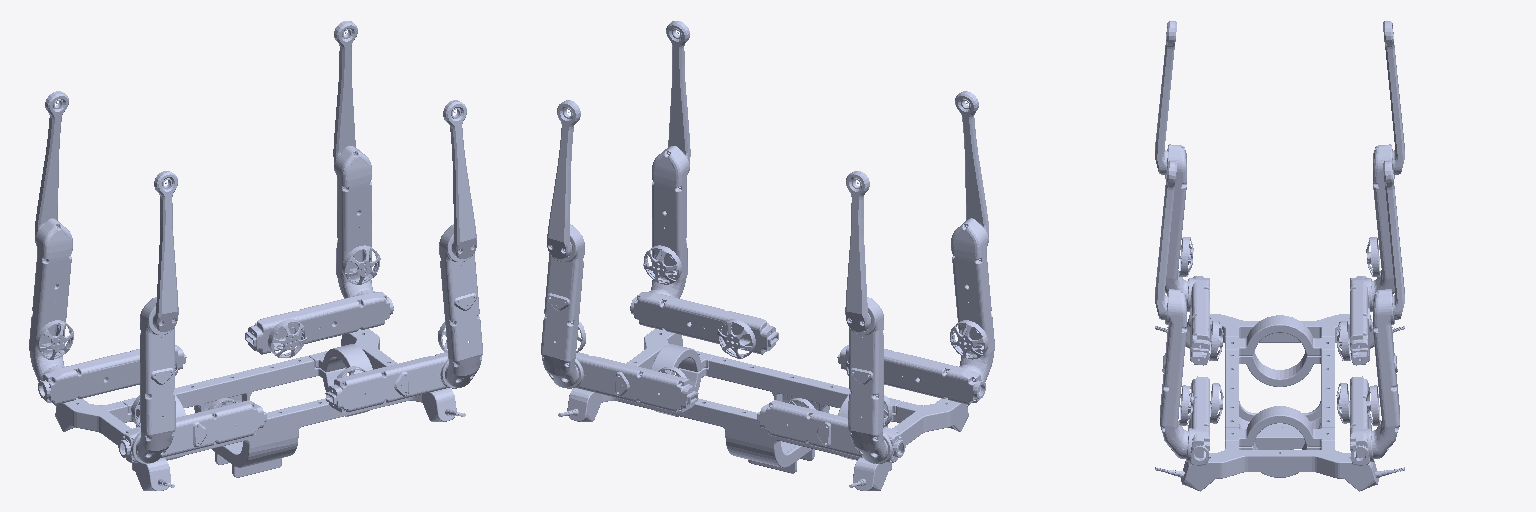
--- What the picture shows (computed from the rendered views, not written in the file) ---
Views: 3 orthographic renders of the robot side by side, from view 1: azimuth 30°, elevation 25°; view 2: azimuth 150°, elevation 25°; view 3: azimuth 270°, elevation 25°.
Robot: URDF_motion_simulator_simplified_dummy — 17 links, 16 joints (16 continuous); root link base_link; default pose: all joints at 0.
Visible links, largest first — view 1: base_link, upper_leg_left_back, hip_left_front, upper_leg_left_front, upper_leg_right_back, upper_leg_right_front, hip_right_front, hip_right_back, hip_left_back, lower_leg_right_back, lower_leg_right_front, lower_leg_left_back (+1 smaller); view 2: base_link, upper_leg_right_back, hip_right_front, upper_leg_right_front, upper_leg_left_back, upper_leg_left_front, hip_left_front, hip_left_back, hip_right_back, lower_leg_left_back, lower_leg_left_front, lower_leg_right_back (+1 smaller); view 3: base_link, upper_leg_right_front, upper_leg_left_front, upper_leg_right_back, upper_leg_left_back, hip_left_back, hip_right_back, hip_left_front, hip_right_front, lower_leg_right_front, lower_leg_left_front, lower_leg_left_back (+1 smaller).
Link boxes in pixels (bbox=[...]): base_link: bbox=[55, 329, 465, 490]; upper_leg_left_back: bbox=[29, 218, 73, 381]; hip_left_front: bbox=[245, 290, 393, 357]; upper_leg_left_front: bbox=[334, 146, 380, 298]; upper_leg_right_back: bbox=[131, 297, 175, 463]; upper_leg_right_front: bbox=[438, 224, 482, 387]; hip_right_front: bbox=[325, 352, 456, 412]; hip_right_back: bbox=[118, 398, 266, 463]; hip_left_back: bbox=[38, 345, 186, 404]; lower_leg_right_back: bbox=[153, 171, 178, 331]; lower_leg_right_front: bbox=[443, 100, 476, 258]; lower_leg_left_back: bbox=[35, 91, 68, 236]; base_link: bbox=[558, 329, 968, 490]; upper_leg_right_back: bbox=[950, 218, 994, 381]; hip_right_front: bbox=[630, 290, 778, 358]; upper_leg_right_front: bbox=[643, 146, 689, 298]; upper_leg_left_back: bbox=[848, 297, 892, 463]; upper_leg_left_front: bbox=[541, 224, 585, 387]; hip_left_front: bbox=[567, 352, 698, 412]; hip_left_back: bbox=[757, 398, 905, 463]; hip_right_back: bbox=[837, 345, 985, 404]; lower_leg_left_back: bbox=[845, 171, 870, 331]; lower_leg_left_front: bbox=[547, 100, 580, 258]; lower_leg_right_back: bbox=[955, 91, 988, 236]; base_link: bbox=[1155, 314, 1404, 491]; upper_leg_right_front: bbox=[1160, 289, 1193, 458]; upper_leg_left_front: bbox=[1366, 289, 1399, 458]; upper_leg_right_back: bbox=[1165, 144, 1193, 298]; upper_leg_left_back: bbox=[1366, 144, 1394, 298]; hip_left_back: bbox=[1336, 276, 1372, 365]; hip_right_back: bbox=[1187, 276, 1223, 365]; hip_left_front: bbox=[1336, 376, 1373, 465]; hip_right_front: bbox=[1186, 376, 1223, 465]; lower_leg_right_front: bbox=[1155, 161, 1176, 319]; lower_leg_left_front: bbox=[1383, 161, 1404, 319]; lower_leg_left_back: bbox=[1383, 21, 1404, 174].
Bounding box of the posed robot: 0.4362 × 0.2745 × 0.4385 m (x, y, z).
Meshes: 17 distinct files referenced, 17 mesh visuals loaded (17 binary STL).

The robot description file, URDF, robot "URDF_motion_simulator_simplified_dummy":
<?xml version="1.0" encoding="utf-8"?>
<!-- This URDF was automatically created by SolidWorks to URDF Exporter! Originally created by Stephen Brawner ([email redacted]) 
     Commit Version: 1.6.0-4-g7f85cfe  Build Version: 1.6.7995.38578
     For more information, please see http://wiki.ros.org/sw_urdf_exporter -->
<robot
  name="URDF_motion_simulator_simplified_dummy">
  <link
    name="base_link">
    <inertial>
      <origin
        xyz="-0.00378758182204412 0.032755494750085 3.55184467035811E-07"
        rpy="0 0 0" />
      <mass
        value="0.369358553365675" />
      <inertia
        ixx="0.000467603335978343"
        ixy="4.27759948921302E-09"
        ixz="3.57513830507563E-06"
        iyy="0.000554319680998378"
        iyz="-4.01201938304661E-10"
        izz="0.000217419375667918" />
    </inertial>
    <visual>
      <origin
        xyz="0 0 0"
        rpy="0 0 0" />
      <geometry>
        <mesh
          filename="package://URDF_motion_simulator_simplified_dummy/meshes/base_link.STL" />
      </geometry>
      <material
        name="">
        <color
          rgba="0.792156862745098 0.819607843137255 0.933333333333333 1" />
      </material>
    </visual>
    <collision>
      <origin
        xyz="0 0 0"
        rpy="0 0 0" />
      <geometry>
        <mesh
          filename="package://URDF_motion_simulator_simplified_dummy/meshes/base_link.STL" />
      </geometry>
    </collision>
  </link>
  <link
    name="hip_left_front">
    <inertial>
      <origin
        xyz="-0.00114777917617824 -3.9453711776459E-05 -0.0951126253066146"
        rpy="0 0 0" />
      <mass
        value="0.0464560424052731" />
      <inertia
        ixx="0.000109079106341082"
        ixy="-1.21193103109536E-08"
        ixz="-1.94366355261235E-07"
        iyy="0.000104429264383534"
        iyz="1.1720057725933E-07"
        izz="8.99165524220221E-06" />
    </inertial>
    <visual>
      <origin
        xyz="0 0 0"
        rpy="0 0 0" />
      <geometry>
        <mesh
          filename="package://URDF_motion_simulator_simplified_dummy/meshes/hip_left_front.STL" />
      </geometry>
      <material
        name="">
        <color
          rgba="0.792156862745098 0.819607843137255 0.933333333333333 1" />
      </material>
    </visual>
    <collision>
      <origin
        xyz="0 0 0"
        rpy="0 0 0" />
      <geometry>
        <mesh
          filename="package://URDF_motion_simulator_simplified_dummy/meshes/hip_left_front.STL" />
      </geometry>
    </collision>
  </link>
  <joint
    name="hip_left_front"
    type="continuous">
    <origin
      xyz="0.0266 0.0875 0.031"
      rpy="-1.5707963267949 -0.0888684160670934 1.5707963267949" />
    <parent
      link="base_link" />
    <child
      link="hip_left_front" />
    <axis
      xyz="0 0 1" />
    <limit
      lower="0"
      upper="0"
      effort="0"
      velocity="0" />
  </joint>
  <link
    name="upper_leg_left_front">
    <inertial>
      <origin
        xyz="0.0335844560922996 -4.50009883709579E-05 -0.0812375723976322"
        rpy="0 0 0" />
      <mass
        value="0.0443837568086894" />
      <inertia
        ixx="0.000141574062869451"
        ixy="-9.67490301551373E-09"
        ixz="9.62173645257009E-06"
        iyy="0.000138417609775401"
        iyz="9.76961205925092E-08"
        izz="1.04627706509352E-05" />
    </inertial>
    <visual>
      <origin
        xyz="0 0 0"
        rpy="0 0 0" />
      <geometry>
        <mesh
          filename="package://URDF_motion_simulator_simplified_dummy/meshes/upper_leg_left_front.STL" />
      </geometry>
      <material
        name="">
        <color
          rgba="0.792156862745098 0.819607843137255 0.933333333333333 1" />
      </material>
    </visual>
    <collision>
      <origin
        xyz="0 0 0"
        rpy="0 0 0" />
      <geometry>
        <mesh
          filename="package://URDF_motion_simulator_simplified_dummy/meshes/upper_leg_left_front.STL" />
      </geometry>
    </collision>
  </link>
  <joint
    name="upper_leg_left_front"
    type="continuous">
    <origin
      xyz="0 0 -0.168"
      rpy="-1.61214157811801 0 0" />
    <parent
      link="hip_left_front" />
    <child
      link="upper_leg_left_front" />
    <axis
      xyz="-1 0 0" />
    <limit
      lower="0"
      upper="0"
      effort="0"
      velocity="0" />
  </joint>
  <link
    name="lower_leg_left_front">
    <inertial>
      <origin
        xyz="-0.0140069086189654 -3.22959387843991E-08 -0.0683745671961548"
        rpy="0 0 0" />
      <mass
        value="0.0320230637234883" />
      <inertia
        ixx="9.38723848005656E-05"
        ixy="1.07052769881658E-12"
        ixz="-1.80942568462192E-06"
        iyy="9.31714115946445E-05"
        iyz="5.82157528463886E-11"
        izz="1.49172266483065E-06" />
    </inertial>
    <visual>
      <origin
        xyz="0 0 0"
        rpy="0 0 0" />
      <geometry>
        <mesh
          filename="package://URDF_motion_simulator_simplified_dummy/meshes/lower_leg_left_front.STL" />
      </geometry>
      <material
        name="">
        <color
          rgba="0.792156862745098 0.819607843137255 0.933333333333333 1" />
      </material>
    </visual>
    <collision>
      <origin
        xyz="0 0 0"
        rpy="0 0 0" />
      <geometry>
        <mesh
          filename="package://URDF_motion_simulator_simplified_dummy/meshes/lower_leg_left_front.STL" />
      </geometry>
    </collision>
  </link>
  <joint
    name="lower_leg_left_front"
    type="continuous">
    <origin
      xyz="0.0451575365316773 0 -0.16"
      rpy="-0.0017453292519866 0 3.14159265358979" />
    <parent
      link="upper_leg_left_front" />
    <child
      link="lower_leg_left_front" />
    <axis
      xyz="1 0 0" />
    <limit
      lower="0"
      upper="0"
      effort="0"
      velocity="0" />
  </joint>
  <link
    name="dummy_left_front">
    <inertial>
      <origin
        xyz="1.94289029309402E-16 4.9960036108132E-16 -0.000594786724318619"
        rpy="0 0 0" />
      <mass
        value="4.18879020478639E-06" />
      <inertia
        ixx="1.67551608191456E-12"
        ixy="0"
        ixz="0"
        iyy="1.67551608191456E-12"
        iyz="0"
        izz="1.67551608191456E-12" />
    </inertial>
    <visual>
      <origin
        xyz="0 0 0"
        rpy="0 0 0" />
      <geometry>
        <mesh
          filename="package://URDF_motion_simulator_simplified_dummy/meshes/dummy_left_front.STL" />
      </geometry>
      <material
        name="">
        <color
          rgba="0.792156862745098 0.819607843137255 0.933333333333333 1" />
      </material>
    </visual>
    <collision>
      <origin
        xyz="0 0 0"
        rpy="0 0 0" />
      <geometry>
        <mesh
          filename="package://URDF_motion_simulator_simplified_dummy/meshes/dummy_left_front.STL" />
      </geometry>
    </collision>
  </link>
  <joint
    name="dummy_left_front"
    type="continuous">
    <origin
      xyz="-0.0142500238911007 0 -0.160052746822092"
      rpy="-1.659664742862 -0.0395999220711239 -1.5707963267949" />
    <parent
      link="lower_leg_left_front" />
    <child
      link="dummy_left_front" />
    <axis
      xyz="0 0 1" />
  </joint>
  <link
    name="hip_right_front">
    <inertial>
      <origin
        xyz="-0.00128328837930811 -4.41156613188269E-05 -0.0894544410841239"
        rpy="0 0 0" />
      <mass
        value="0.0415506938007008" />
      <inertia
        ixx="0.000108718038535273"
        ixy="-1.21209885638298E-08"
        ixz="-1.9436680846915E-07"
        iyy="0.000104149900905259"
        iyz="1.17168576432383E-07"
        izz="8.56930927599927E-06" />
    </inertial>
    <visual>
      <origin
        xyz="0 0 0"
        rpy="0 0 0" />
      <geometry>
        <mesh
          filename="package://URDF_motion_simulator_simplified_dummy/meshes/hip_right_front.STL" />
      </geometry>
      <material
        name="">
        <color
          rgba="0.792156862745098 0.819607843137255 0.933333333333333 1" />
      </material>
    </visual>
    <collision>
      <origin
        xyz="0 0 0"
        rpy="0 0 0" />
      <geometry>
        <mesh
          filename="package://URDF_motion_simulator_simplified_dummy/meshes/hip_right_front.STL" />
      </geometry>
    </collision>
  </link>
  <joint
    name="hip_right_front"
    type="continuous">
    <origin
      xyz="0.0421999999999998 -0.0875 0.0310000000000001"
      rpy="1.5707963267949 -0.0888684160671074 -1.5707963267949" />
    <parent
      link="base_link" />
    <child
      link="hip_right_front" />
    <axis
      xyz="0 0 1" />
    <limit
      lower="0"
      upper="0"
      effort="0"
      velocity="0" />
  </joint>
  <link
    name="upper_leg_right_front">
    <inertial>
      <origin
        xyz="0.0335842661332895 -4.47898904026856E-05 -0.0812357114830771"
        rpy="0 0 0" />
      <mass
        value="0.0443850830836431" />
      <inertia
        ixx="0.000141579496511874"
        ixy="-9.57177707552774E-09"
        ixz="9.62238517618777E-06"
        iyy="0.000138413773254541"
        iyz="9.74605788608334E-08"
        izz="1.04533350003678E-05" />
    </inertial>
    <visual>
      <origin
        xyz="0 0 0"
        rpy="0 0 0" />
      <geometry>
        <mesh
          filename="package://URDF_motion_simulator_simplified_dummy/meshes/upper_leg_right_front.STL" />
      </geometry>
      <material
        name="">
        <color
          rgba="0.792156862745098 0.819607843137255 0.933333333333333 1" />
      </material>
    </visual>
    <collision>
      <origin
        xyz="0 0 0"
        rpy="0 0 0" />
      <geometry>
        <mesh
          filename="package://URDF_motion_simulator_simplified_dummy/meshes/upper_leg_right_front.STL" />
      </geometry>
    </collision>
  </link>
  <joint
    name="upper_leg_right_front"
    type="continuous">
    <origin
      xyz="0 0 -0.1524"
      rpy="1.61214157811801 0 0" />
    <parent
      link="hip_right_front" />
    <child
      link="upper_leg_right_front" />
    <axis
      xyz="-1 0 0" />
    <limit
      lower="0"
      upper="0"
      effort="0"
      velocity="0" />
  </joint>
  <link
    name="lower_leg_right_front">
    <inertial>
      <origin
        xyz="-0.0307978176908624 -2.77351331068321E-08 -0.0683745706192754"
        rpy="0 0 0" />
      <mass
        value="0.0320230612142886" />
      <inertia
        ixx="9.38723784822054E-05"
        ixy="1.25390320575601E-12"
        ixz="-1.80942619373483E-06"
        iyy="9.31714063906275E-05"
        iyz="5.55800084008384E-11"
        izz="1.4917205231192E-06" />
    </inertial>
    <visual>
      <origin
        xyz="0 0 0"
        rpy="0 0 0" />
      <geometry>
        <mesh
          filename="package://URDF_motion_simulator_simplified_dummy/meshes/lower_leg_right_front.STL" />
      </geometry>
      <material
        name="">
        <color
          rgba="0.792156862745098 0.819607843137255 0.933333333333333 1" />
      </material>
    </visual>
    <collision>
      <origin
        xyz="0 0 0"
        rpy="0 0 0" />
      <geometry>
        <mesh
          filename="package://URDF_motion_simulator_simplified_dummy/meshes/lower_leg_right_front.STL" />
      </geometry>
    </collision>
  </link>
  <joint
    name="lower_leg_right_front"
    type="continuous">
    <origin
      xyz="0.0283666271345778 0 -0.16"
      rpy="0.00174532925198727 0 -3.14159265358979" />
    <parent
      link="upper_leg_right_front" />
    <child
      link="lower_leg_right_front" />
    <axis
      xyz="1 0 0" />
    <limit
      lower="0"
      upper="0"
      effort="0"
      velocity="0" />
  </joint>
  <link
    name="dummy_right_front">
    <inertial>
      <origin
        xyz="8.53371171750383E-05 0.000161763066584331 0.00118091884280049"
        rpy="0 0 0" />
      <mass
        value="4.18879020478639E-06" />
      <inertia
        ixx="1.67551608191456E-12"
        ixy="4.10207670714926E-29"
        ixz="0"
        iyy="1.67551608191456E-12"
        iyz="2.52435489670724E-29"
        izz="1.67551608191456E-12" />
    </inertial>
    <visual>
      <origin
        xyz="0 0 0"
        rpy="0 0 0" />
      <geometry>
        <mesh
          filename="package://URDF_motion_simulator_simplified_dummy/meshes/dummy_right_front.STL" />
      </geometry>
      <material
        name="">
        <color
          rgba="0.792156862745098 0.819607843137255 0.933333333333333 1" />
      </material>
    </visual>
    <collision>
      <origin
        xyz="0 0 0"
        rpy="0 0 0" />
      <geometry>
        <mesh
          filename="package://URDF_motion_simulator_simplified_dummy/meshes/dummy_right_front.STL" />
      </geometry>
    </collision>
  </link>
  <joint
    name="dummy_right_front"
    type="continuous">
    <origin
      xyz="-0.0304430910633562 0 -0.16010597465947"
      rpy="-1.34906825918403 -0.0492173125903429 1.64177086104973" />
    <parent
      link="lower_leg_right_front" />
    <child
      link="dummy_right_front" />
    <axis
      xyz="0.0714119628942929 0.135366866036153 0.988218671719541" />
  </joint>
  <link
    name="hip_left_back">
    <inertial>
      <origin
        xyz="-0.00128328848757414 -4.41136000242613E-05 -0.0894544419441646"
        rpy="0 0 0" />
      <mass
        value="0.0415506942379489" />
      <inertia
        ixx="0.000108718040433142"
        ixy="-1.21217786142228E-08"
        ixz="-1.94366773896543E-07"
        iyy="0.000104152221436801"
        iyz="1.17167819342496E-07"
        izz="8.57162796959362E-06" />
    </inertial>
    <visual>
      <origin
        xyz="0 0 0"
        rpy="0 0 0" />
      <geometry>
        <mesh
          filename="package://URDF_motion_simulator_simplified_dummy/meshes/hip_left_back.STL" />
      </geometry>
      <material
        name="">
        <color
          rgba="0.792156862745098 0.819607843137255 0.933333333333333 1" />
      </material>
    </visual>
    <collision>
      <origin
        xyz="0 0 0"
        rpy="0 0 0" />
      <geometry>
        <mesh
          filename="package://URDF_motion_simulator_simplified_dummy/meshes/hip_left_back.STL" />
      </geometry>
    </collision>
  </link>
  <joint
    name="hip_left_back"
    type="continuous">
    <origin
      xyz="-0.0422000000000003 0.0874999999999999 0.031"
      rpy="1.5707963267949 -0.088868416067085 1.5707963267949" />
    <parent
      link="base_link" />
    <child
      link="hip_left_back" />
    <axis
      xyz="0 0 1" />
    <limit
      lower="0"
      upper="0"
      effort="0"
      velocity="0" />
  </joint>
  <link
    name="upper_leg_left_back">
    <inertial>
      <origin
        xyz="0.0335842810737708 -4.48592050072694E-05 -0.0812358386973087"
        rpy="0 0 0" />
      <mass
        value="0.0443850097633001" />
      <inertia
        ixx="0.000141579517248848"
        ixy="-9.5715177549458E-09"
        ixz="9.62238475227013E-06"
        iyy="0.000138416457279121"
        iyz="9.74583302140696E-08"
        izz="1.04559983630747E-05" />
    </inertial>
    <visual>
      <origin
        xyz="0 0 0"
        rpy="0 0 0" />
      <geometry>
        <mesh
          filename="package://URDF_motion_simulator_simplified_dummy/meshes/upper_leg_left_back.STL" />
      </geometry>
      <material
        name="">
        <color
          rgba="0.792156862745098 0.819607843137255 0.933333333333333 1" />
      </material>
    </visual>
    <collision>
      <origin
        xyz="0 0 0"
        rpy="0 0 0" />
      <geometry>
        <mesh
          filename="package://URDF_motion_simulator_simplified_dummy/meshes/upper_leg_left_back.STL" />
      </geometry>
    </collision>
  </link>
  <joint
    name="upper_leg_left_back"
    type="continuous">
    <origin
      xyz="0 0 -0.1524"
      rpy="1.61214157811801 0 0" />
    <parent
      link="hip_left_back" />
    <child
      link="upper_leg_left_back" />
    <axis
      xyz="-1 0 0" />
    <limit
      lower="0"
      upper="0"
      effort="0"
      velocity="0" />
  </joint>
  <link
    name="lower_leg_left_back">
    <inertial>
      <origin
        xyz="-0.0140069083043222 -2.77293754624708E-08 -0.0683745697448815"
        rpy="0 0 0" />
      <mass
        value="0.0320230619709976" />
      <inertia
        ixx="9.38723795639434E-05"
        ixy="1.25511935342707E-12"
        ixz="-1.80942613006925E-06"
        iyy="9.31714073784877E-05"
        iyz="5.5578152269522E-11"
        izz="1.49172056634742E-06" />
    </inertial>
    <visual>
      <origin
        xyz="0 0 0"
        rpy="0 0 0" />
      <geometry>
        <mesh
          filename="package://URDF_motion_simulator_simplified_dummy/meshes/lower_leg_left_back.STL" />
      </geometry>
      <material
        name="">
        <color
          rgba="0.792156862745098 0.819607843137255 0.933333333333333 1" />
      </material>
    </visual>
    <collision>
      <origin
        xyz="0 0 0"
        rpy="0 0 0" />
      <geometry>
        <mesh
          filename="package://URDF_motion_simulator_simplified_dummy/meshes/lower_leg_left_back.STL" />
      </geometry>
    </collision>
  </link>
  <joint
    name="lower_leg_left_back"
    type="continuous">
    <origin
      xyz="0.0451575365316778 0 -0.16"
      rpy="0.00174532925198693 0 -3.14159265358979" />
    <parent
      link="upper_leg_left_back" />
    <child
      link="lower_leg_left_back" />
    <axis
      xyz="1 0 0" />
    <limit
      lower="0"
      upper="0"
      effort="0"
      velocity="0" />
  </joint>
  <link
    name="dummy_left_back">
    <inertial>
      <origin
        xyz="-2.77555756156289E-17 1.11022302462516E-16 -0.000594786724320312"
        rpy="0 0 0" />
      <mass
        value="4.18879020478639E-06" />
      <inertia
        ixx="1.67551608191456E-12"
        ixy="0"
        ixz="0"
        iyy="1.67551608191456E-12"
        iyz="0"
        izz="1.67551608191456E-12" />
    </inertial>
    <visual>
      <origin
        xyz="0 0 0"
        rpy="0 0 0" />
      <geometry>
        <mesh
          filename="package://URDF_motion_simulator_simplified_dummy/meshes/dummy_left_back.STL" />
      </geometry>
      <material
        name="">
        <color
          rgba="0.792156862745098 0.819607843137255 0.933333333333333 1" />
      </material>
    </visual>
    <collision>
      <origin
        xyz="0 0 0"
        rpy="0 0 0" />
      <geometry>
        <mesh
          filename="package://URDF_motion_simulator_simplified_dummy/meshes/dummy_left_back.STL" />
      </geometry>
    </collision>
  </link>
  <joint
    name="dummy_left_back"
    type="continuous">
    <origin
      xyz="-0.0142500238910989 0 -0.160052746822092"
      rpy="-1.65966474286198 0.0395999220711294 -1.5707963267949" />
    <parent
      link="lower_leg_left_back" />
    <child
      link="dummy_left_back" />
    <axis
      xyz="0 0 1" />
  </joint>
  <link
    name="hip_right_back">
    <inertial>
      <origin
        xyz="-0.00114777885671997 -3.94546783551199E-05 -0.0951126260332582"
        rpy="0 0 0" />
      <mass
        value="0.0464560462885094" />
      <inertia
        ixx="0.000109079107012902"
        ixy="-1.21190518391895E-08"
        ixz="-1.94367071199817E-07"
        iyy="0.000104416981415421"
        iyz="1.17200818509972E-07"
        izz="8.9793727006512E-06" />
    </inertial>
    <visual>
      <origin
        xyz="0 0 0"
        rpy="0 0 0" />
      <geometry>
        <mesh
          filename="package://URDF_motion_simulator_simplified_dummy/meshes/hip_right_back.STL" />
      </geometry>
      <material
        name="">
        <color
          rgba="0.792156862745098 0.819607843137255 0.933333333333333 1" />
      </material>
    </visual>
    <collision>
      <origin
        xyz="0 0 0"
        rpy="0 0 0" />
      <geometry>
        <mesh
          filename="package://URDF_motion_simulator_simplified_dummy/meshes/hip_right_back.STL" />
      </geometry>
    </collision>
  </link>
  <joint
    name="hip_right_back"
    type="continuous">
    <origin
      xyz="-0.0266 -0.0875 0.031"
      rpy="-1.5707963267949 -0.0888684160668232 -1.5707963267949" />
    <parent
      link="base_link" />
    <child
      link="hip_right_back" />
    <axis
      xyz="0 0 1" />
    <limit
      lower="0"
      upper="0"
      effort="0"
      velocity="0" />
  </joint>
  <link
    name="upper_leg_right_back">
    <inertial>
      <origin
        xyz="0.033584399570773 -4.49615734106068E-05 -0.0812369288638612"
        rpy="0 0 0" />
      <mass
        value="0.0443841843830056" />
      <inertia
        ixx="0.000141574155249554"
        ixy="-9.67490050850781E-09"
        ixz="9.62173181472236E-06"
        iyy="0.000138412354185531"
        iyz="9.76815102348098E-08"
        izz="1.04574244135255E-05" />
    </inertial>
    <visual>
      <origin
        xyz="0 0 0"
        rpy="0 0 0" />
      <geometry>
        <mesh
          filename="package://URDF_motion_simulator_simplified_dummy/meshes/upper_leg_right_back.STL" />
      </geometry>
      <material
        name="">
        <color
          rgba="0.792156862745098 0.819607843137255 0.933333333333333 1" />
      </material>
    </visual>
    <collision>
      <origin
        xyz="0 0 0"
        rpy="0 0 0" />
      <geometry>
        <mesh
          filename="package://URDF_motion_simulator_simplified_dummy/meshes/upper_leg_right_back.STL" />
      </geometry>
    </collision>
  </link>
  <joint
    name="upper_leg_right_back"
    type="continuous">
    <origin
      xyz="0 0 -0.168"
      rpy="-1.61214157811801 0 0" />
    <parent
      link="hip_right_back" />
    <child
      link="upper_leg_right_back" />
    <axis
      xyz="-1 0 0" />
    <limit
      lower="0"
      upper="0"
      effort="0"
      velocity="0" />
  </joint>
  <link
    name="lower_leg_right_back">
    <inertial>
      <origin
        xyz="-0.0307978180198995 -3.21887455578818E-08 -0.06837456675346"
        rpy="0 0 0" />
      <mass
        value="0.032023064104675" />
      <inertia
        ixx="9.38723853505118E-05"
        ixy="1.07431027584969E-12"
        ixz="-1.80942565492456E-06"
        iyy="9.31714120991633E-05"
        iyz="5.80833412873038E-11"
        izz="1.49172268522215E-06" />
    </inertial>
    <visual>
      <origin
        xyz="0 0 0"
        rpy="0 0 0" />
      <geometry>
        <mesh
          filename="package://URDF_motion_simulator_simplified_dummy/meshes/lower_leg_right_back.STL" />
      </geometry>
      <material
        name="">
        <color
          rgba="0.792156862745098 0.819607843137255 0.933333333333333 1" />
      </material>
    </visual>
    <collision>
      <origin
        xyz="0 0 0"
        rpy="0 0 0" />
      <geometry>
        <mesh
          filename="package://URDF_motion_simulator_simplified_dummy/meshes/lower_leg_right_back.STL" />
      </geometry>
    </collision>
  </link>
  <joint
    name="lower_leg_right_back"
    type="continuous">
    <origin
      xyz="0.0283666271345683 0 -0.160000000000044"
      rpy="-0.00174532925198751 0 -3.14159265358979" />
    <parent
      link="upper_leg_right_back" />
    <child
      link="lower_leg_right_back" />
    <axis
      xyz="1 0 0" />
    <limit
      lower="0"
      upper="0"
      effort="0"
      velocity="0" />
  </joint>
  <link
    name="dummy_right_back">
    <inertial>
      <origin
        xyz="9.16337348415841E-05 7.63087066372181E-05 0.00113539175443665"
        rpy="0 0 0" />
      <mass
        value="4.18879020478639E-06" />
      <inertia
        ixx="1.67551608191456E-12"
        ixy="8.59858386690903E-29"
        ixz="1.26217744835362E-29"
        iyy="1.67551608191456E-12"
        iyz="0"
        izz="1.67551608191456E-12" />
    </inertial>
    <visual>
      <origin
        xyz="0 0 0"
        rpy="0 0 0" />
      <geometry>
        <mesh
          filename="package://URDF_motion_simulator_simplified_dummy/meshes/dummy_right_back.STL" />
      </geometry>
      <material
        name="">
        <color
          rgba="0.792156862745098 0.819607843137255 0.933333333333333 1" />
      </material>
    </visual>
    <collision>
      <origin
        xyz="0 0 0"
        rpy="0 0 0" />
      <geometry>
        <mesh
          filename="package://URDF_motion_simulator_simplified_dummy/meshes/dummy_right_back.STL" />
      </geometry>
    </collision>
  </link>
  <joint
    name="dummy_right_back"
    type="continuous">
    <origin
      xyz="-0.0304962413609679 0 -0.160101242515636"
      rpy="-1.41154703399905 0.0370007615455834 1.65130135925405" />
    <parent
      link="lower_leg_right_back" />
    <child
      link="dummy_right_back" />
    <axis
      xyz="0.0802652371376651 0.066841501620514 0.994529891641447" />
  </joint>
</robot>
